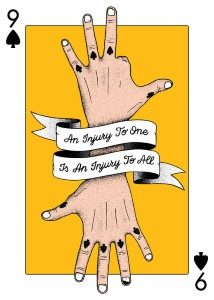NineOfSpades: (6, 9, 209, 289)
